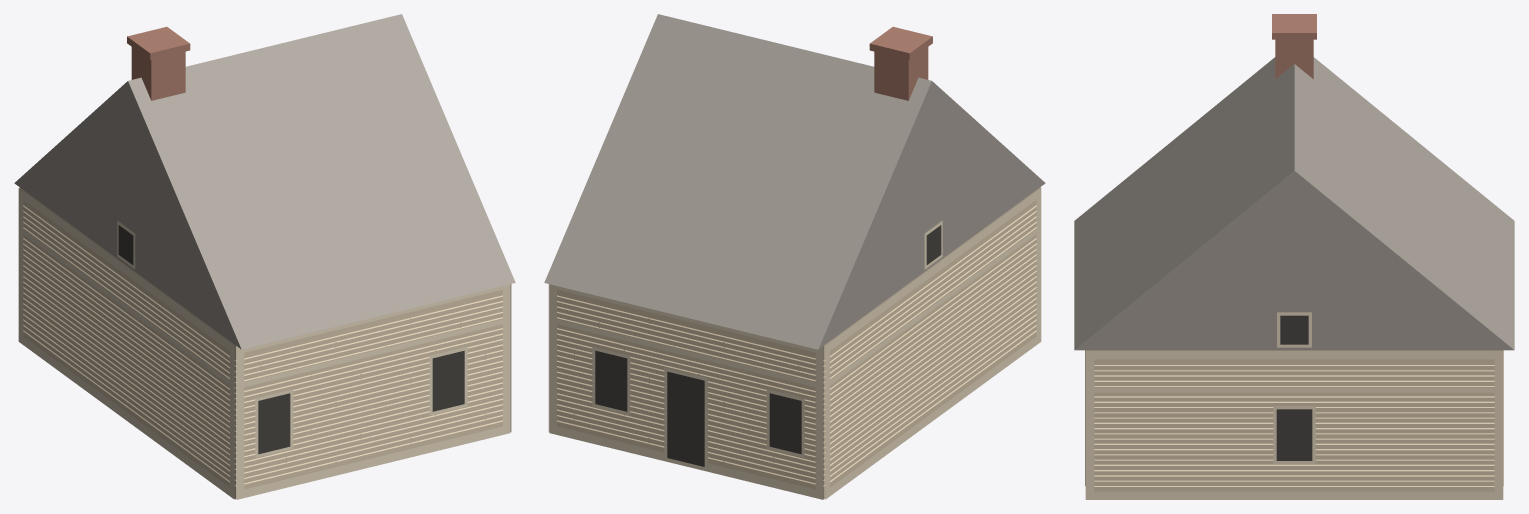
Rendered from recon_1835_west_005__inferred_1835.glb.
3 views of the same model, side by side, from view 1: azimuth 30°, elevation 25°; view 2: azimuth 150°, elevation 25°; view 3: azimuth 270°, elevation 25° (orthographic). The views are drawn at different scales.
Visible parts, largest first — view 1: recon_1835_west_005__inferred_1835; view 2: recon_1835_west_005__inferred_1835; view 3: recon_1835_west_005__inferred_1835.
Boxes of the visible parts, box(x1,y1,x2,y2) form: recon_1835_west_005__inferred_1835: box(14, 14, 515, 499); recon_1835_west_005__inferred_1835: box(544, 14, 1045, 499); recon_1835_west_005__inferred_1835: box(1074, 14, 1514, 499).
Size of the model in its own units: 6.8 by 8.72 by 9.64.
